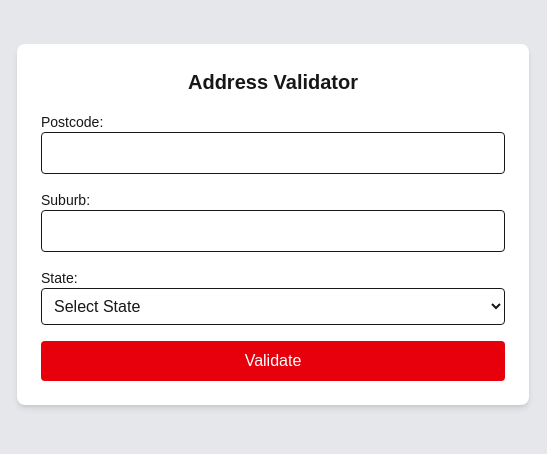
Test case: ValidateForm Component › displays error when response suburb does not match with input suburb
Type "2001" into the field labelled "Postcode:". click: (273, 152)
box: [41,132,505,174]
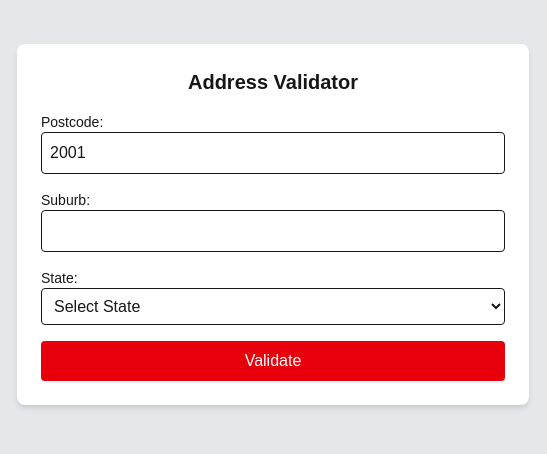
Type "Bro" into the field labelled "Suburb:". click: (273, 230)
box: [41,210,505,252]
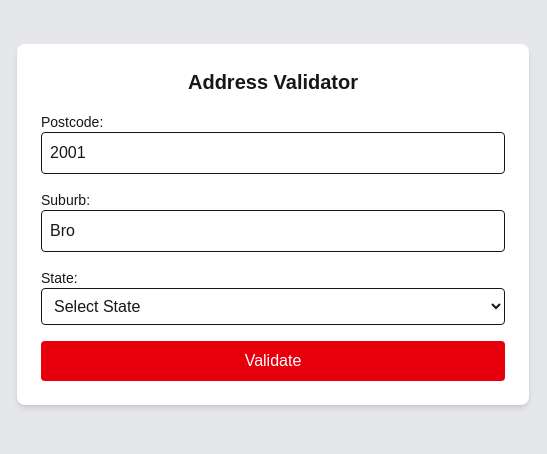
Select "NSW" in the dropdown labelled "State:". click: (273, 306)
box: [41,288,505,324]
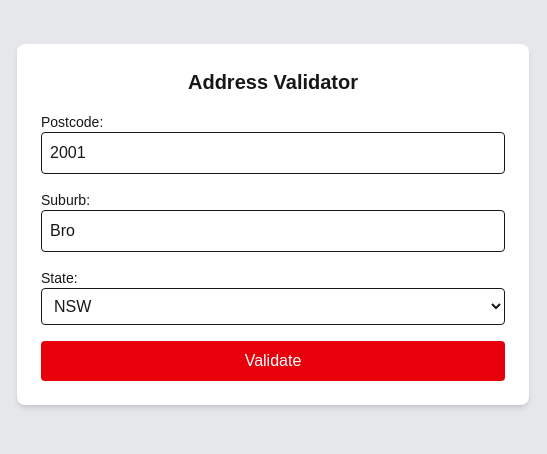
Submit the form from the button "Validate", box [41,340,505,380]
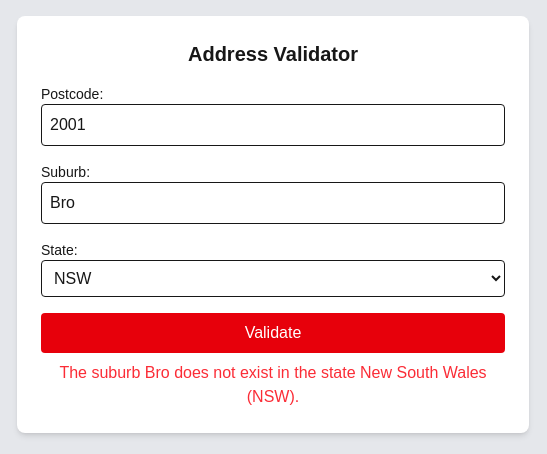
Now the text "The suburb Bro does not exist in the state New South Wales (NSW)." is shown, box [41,360,505,408]
